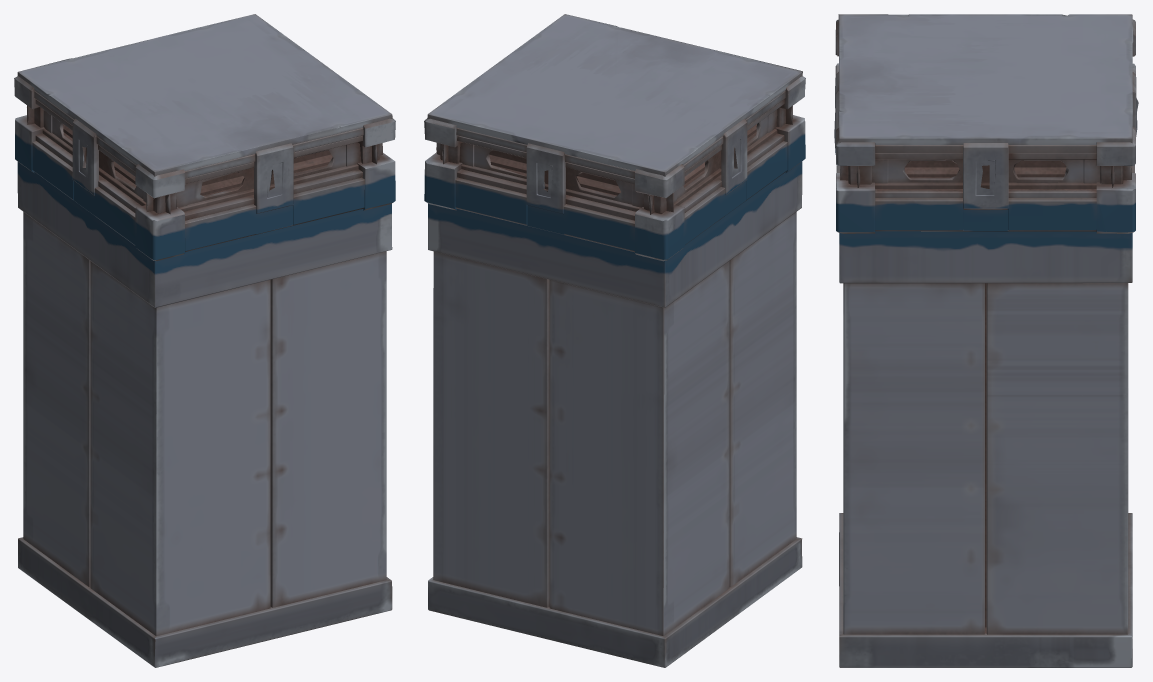
File: Floor_Quarter_Metal_C.glb
The picture shows the model from 3 angles, left to right: view 1: azimuth 30°, elevation 25°; view 2: azimuth 150°, elevation 25°; view 3: azimuth 270°, elevation 25°; orthographic projection. The views are drawn at different scales.
Visible parts, largest first — view 1: SM_Metal_FloorQuarter; view 2: SM_Metal_FloorQuarter; view 3: SM_Metal_FloorQuarter.
Part boxes in pixels (x1,y1,x2,y2): SM_Metal_FloorQuarter: (14,14,395,667); SM_Metal_FloorQuarter: (424,14,805,667); SM_Metal_FloorQuarter: (834,14,1138,667).
Size of the model in its own units: 1.54 by 2.99 by 1.56.
1 material, 1 textured.
